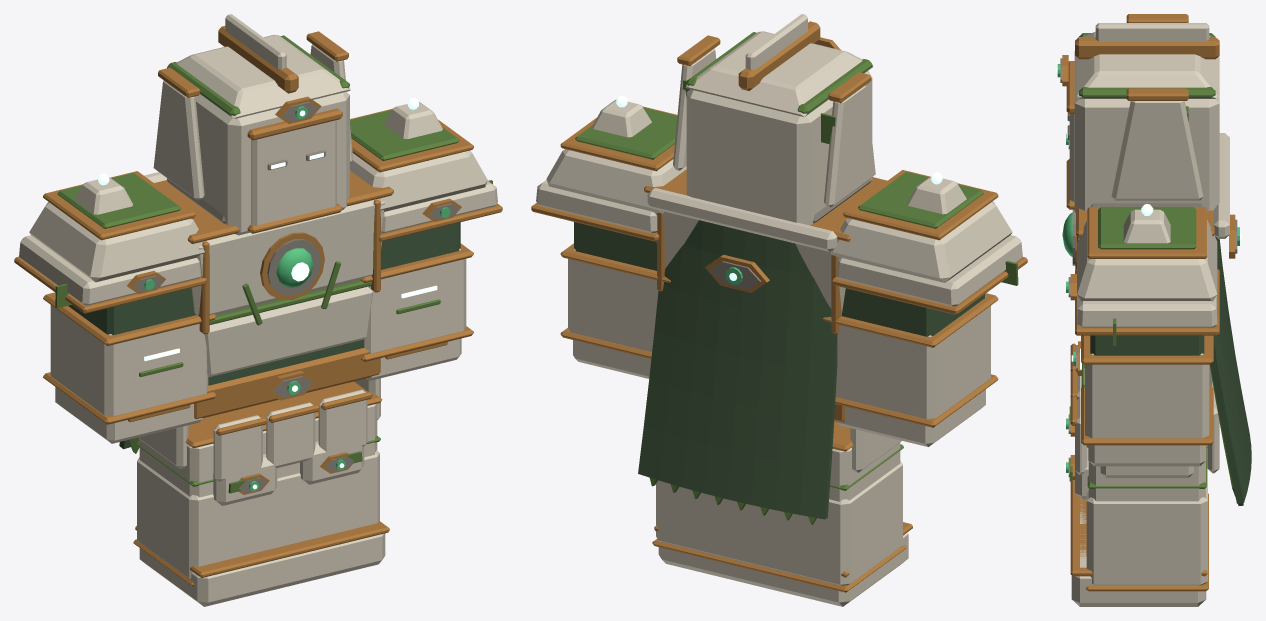
Rendered from Watcherstone.fbx.
3 views of the same model, side by side, from view 1: azimuth 30°, elevation 25°; view 2: azimuth 150°, elevation 25°; view 3: azimuth 270°, elevation 25° (orthographic). The views are drawn at different scales.
Parts seen in each view (by area): view 1: Armor_Watcherstone_Helm_Stone_Common, Armor_Watcherstone_Chest_Stone_Common, Armor_Watcherstone_GreaveR_Stone_Common, Armor_Watcherstone_BracerR_Stone_Common, Armor_Watcherstone_PauldronR_Stone_Common, Armor_Watcherstone_Belt_StoneSway_Common, Armor_Watcherstone_GreaveL_Stone_Common, Armor_Watcherstone_BracerL_Stone_Common, Armor_Watcherstone_PauldronL_Stone_Common, Armor_Watcherstone_Helm_Stone_Epic, Armor_Watcherstone_Belt_Bronze_Common, Armor_Watcherstone_BootR_Stone_Common (+33 smaller); view 2: Armor_Watcherstone_Chest_ClothSway_Common, Armor_Watcherstone_Helm_Stone_Common, Armor_Watcherstone_PauldronR_Stone_Common, Armor_Watcherstone_BracerR_Stone_Common, Armor_Watcherstone_GreaveR_Stone_Common, Armor_Watcherstone_PauldronL_Stone_Common, Armor_Watcherstone_BracerL_Stone_Common, Armor_Watcherstone_Chest_Stone_Common, Armor_Watcherstone_Helm_Stone_Epic, Armor_Watcherstone_GreaveL_Stone_Common, Armor_Watcherstone_PauldronR_Bronze_Uncommon, Armor_Watcherstone_PauldronR_Cloth_Common (+25 smaller); view 3: Armor_Watcherstone_Helm_Stone_Common, Armor_Watcherstone_GreaveL_Stone_Common, Armor_Watcherstone_PauldronL_Stone_Common, Armor_Watcherstone_BracerL_Stone_Common, Armor_Watcherstone_Helm_Stone_Epic, Armor_Watcherstone_Chest_ClothSway_Common, Armor_Watcherstone_PauldronL_Bronze_Uncommon, Armor_Watcherstone_ThighL_Stone_Common, Armor_Watcherstone_PauldronL_Moss_Rare, Armor_Watcherstone_BootL_Stone_Common, Armor_Watcherstone_GloveL_Stone_Common, Armor_Watcherstone_Belt_StoneSway_Common (+19 smaller).
Part boxes in pixels (x1,y1,x2,y2): Armor_Watcherstone_Helm_Stone_Common: (167, 34, 350, 235); Armor_Watcherstone_Chest_Stone_Common: (144, 172, 384, 377); Armor_Watcherstone_GreaveR_Stone_Common: (137, 454, 290, 578); Armor_Watcherstone_BracerR_Stone_Common: (50, 305, 208, 416); Armor_Watcherstone_PauldronR_Stone_Common: (19, 202, 204, 305); Armor_Watcherstone_Belt_StoneSway_Common: (138, 378, 380, 481); Armor_Watcherstone_GreaveL_Stone_Common: (285, 441, 379, 545); Armor_Watcherstone_BracerL_Stone_Common: (364, 248, 466, 353); Armor_Watcherstone_PauldronL_Stone_Common: (350, 150, 497, 233); Armor_Watcherstone_Helm_Stone_Epic: (153, 44, 353, 200); Armor_Watcherstone_Belt_Bronze_Common: (194, 348, 380, 418); Armor_Watcherstone_BootR_Stone_Common: (139, 542, 295, 606); Armor_Watcherstone_Chest_ClothSway_Common: (638, 220, 837, 519); Armor_Watcherstone_Helm_Stone_Common: (685, 31, 872, 225); Armor_Watcherstone_PauldronR_Stone_Common: (830, 201, 1022, 306); Armor_Watcherstone_BracerR_Stone_Common: (835, 296, 990, 419); Armor_Watcherstone_GreaveR_Stone_Common: (746, 461, 902, 585); Armor_Watcherstone_PauldronL_Stone_Common: (536, 149, 686, 232); Armor_Watcherstone_BracerL_Stone_Common: (568, 249, 658, 351); Armor_Watcherstone_Chest_Stone_Common: (647, 188, 845, 313); Armor_Watcherstone_Helm_Stone_Epic: (673, 48, 875, 207); Armor_Watcherstone_GreaveL_Stone_Common: (656, 480, 751, 562); Armor_Watcherstone_PauldronR_Bronze_Uncommon: (832, 170, 1027, 314); Armor_Watcherstone_PauldronR_Cloth_Common: (842, 288, 984, 336); Armor_Watcherstone_Helm_Stone_Common: (1069, 31, 1219, 212); Armor_Watcherstone_GreaveL_Stone_Common: (1075, 448, 1207, 585); Armor_Watcherstone_PauldronL_Stone_Common: (1077, 220, 1217, 327); Armor_Watcherstone_BracerL_Stone_Common: (1085, 353, 1209, 438); Armor_Watcherstone_Helm_Stone_Epic: (1111, 101, 1203, 200); Armor_Watcherstone_Chest_ClothSway_Common: (1210, 236, 1251, 503); Armor_Watcherstone_PauldronL_Bronze_Uncommon: (1075, 207, 1219, 335); Armor_Watcherstone_ThighL_Stone_Common: (1088, 461, 1205, 501); Armor_Watcherstone_PauldronL_Moss_Rare: (1098, 207, 1196, 249); Armor_Watcherstone_BootL_Stone_Common: (1071, 532, 1206, 606); Armor_Watcherstone_GloveL_Stone_Common: (1088, 445, 1206, 466); Armor_Watcherstone_Belt_StoneSway_Common: (1075, 365, 1219, 477).
Bounding box in the file's own units: 500 × 575 × 189.
